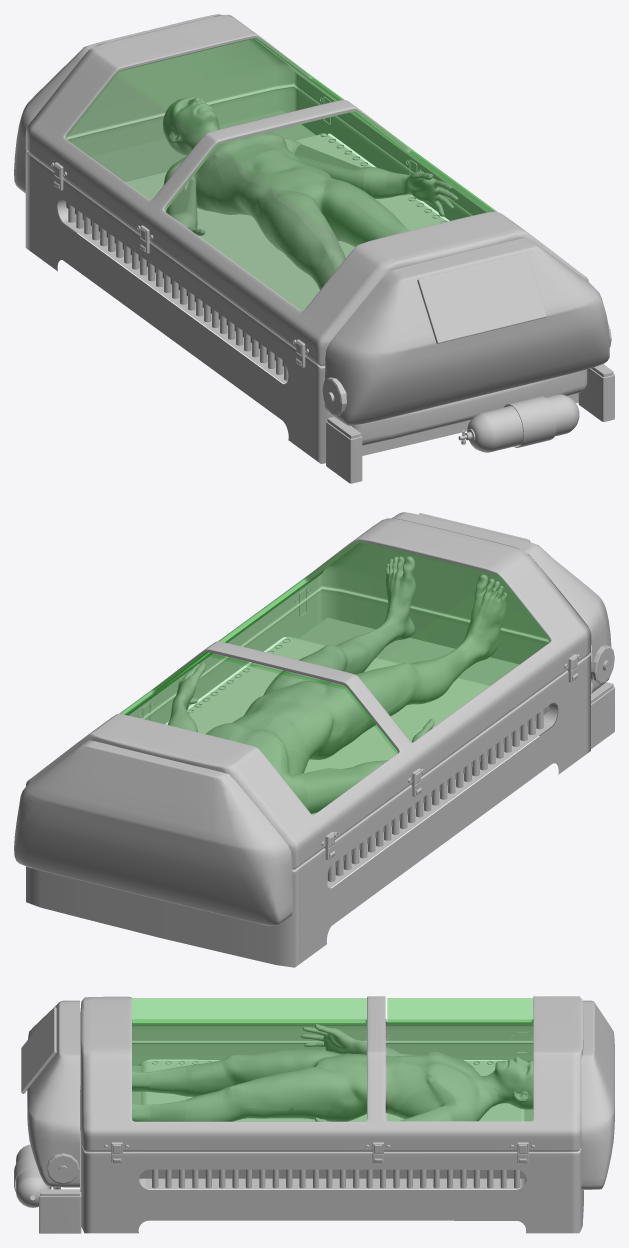
The model's file is chamber.fbx.
3 renders of one model, top to bottom at view 1: azimuth 30°, elevation 25°; view 2: azimuth 150°, elevation 25°; view 3: azimuth 270°, elevation 25°, orthographic. The views are drawn at different scales.
Visible parts, largest first — view 1: base_branca, tampa, human, cama; view 2: base_branca, tampa, human, cama; view 3: base_branca, tampa, human, cama.
Part boxes in pixels (box(x1,y1,x2,y2)): base_branca: box(14, 14, 614, 483); tampa: box(65, 38, 495, 310); human: box(163, 97, 458, 289); cama: box(66, 110, 315, 366); base_branca: box(14, 512, 614, 967); tampa: box(119, 541, 550, 814); human: box(167, 556, 507, 813); cama: box(299, 617, 549, 872); base_branca: box(14, 996, 614, 1233); tampa: box(132, 998, 532, 1120); human: box(132, 1024, 533, 1121); cama: box(132, 1066, 533, 1178).
Size of the model in its own units: 0.241 by 0.154 by 0.5402.
